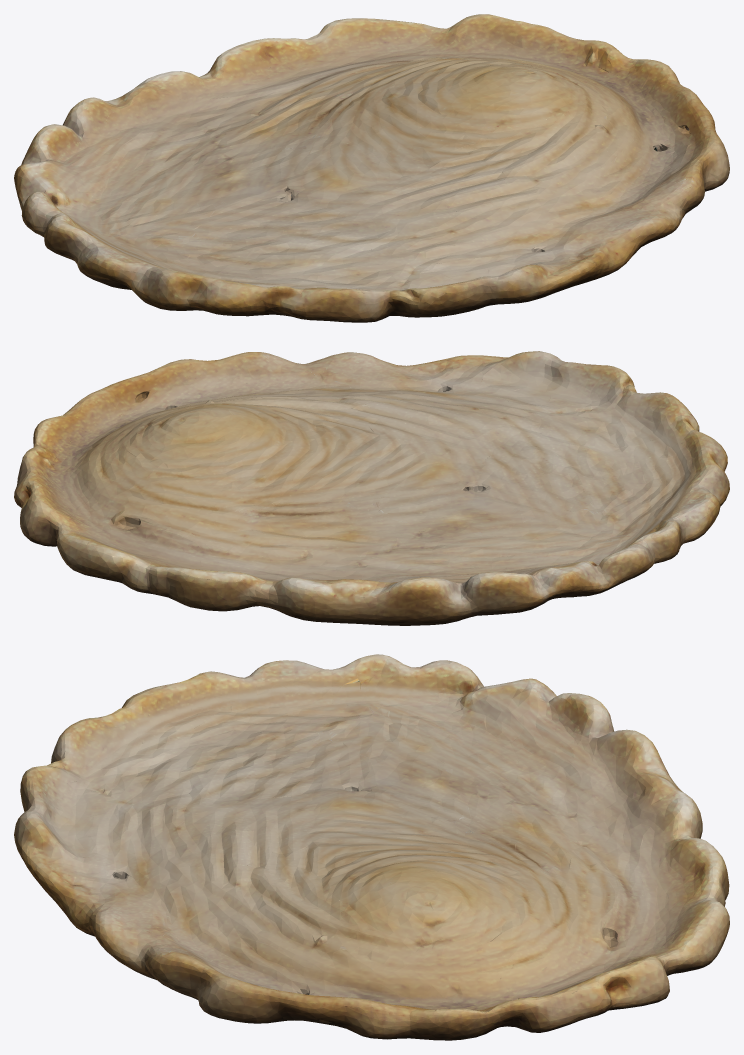
3 views of the same model, one above another, from view 1: azimuth 30°, elevation 25°; view 2: azimuth 150°, elevation 25°; view 3: azimuth 270°, elevation 25° (orthographic). The views are drawn at different scales.
Visible parts, largest first — view 1: world; view 2: world; view 3: world.
Boxes of the visible parts, <box> form: world: <box>14,14,729,322</box>; world: <box>14,351,729,625</box>; world: <box>14,654,729,1040</box>.
Size of the model in its own units: 0.9893 by 0.1127 by 0.8681.
1 material, 1 textured.
